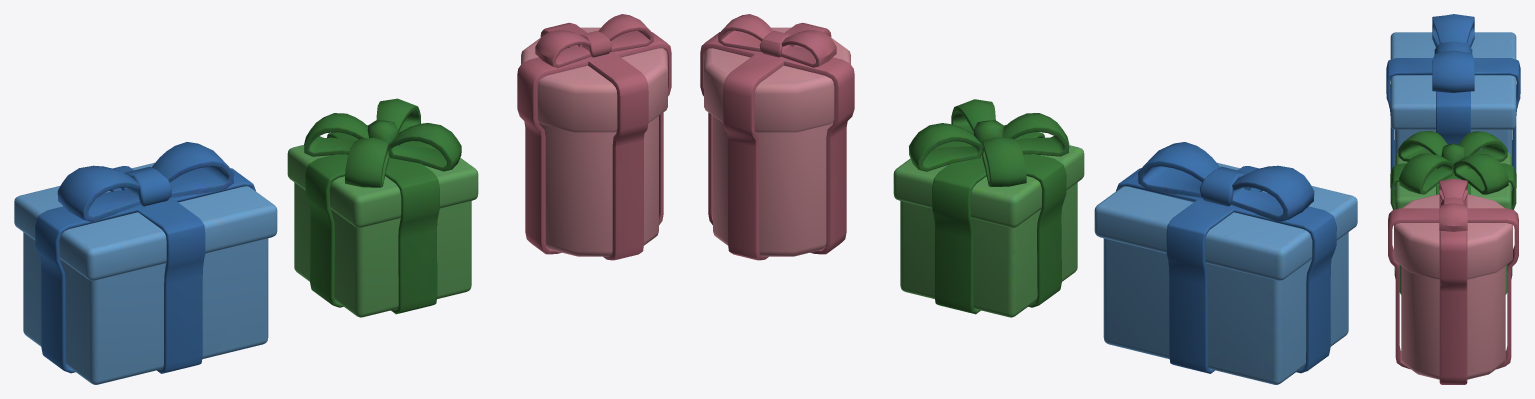
3 renders of one model, left to right at view 1: azimuth 30°, elevation 25°; view 2: azimuth 150°, elevation 25°; view 3: azimuth 270°, elevation 25°, orthographic. The views are drawn at different scales.
Parts seen in each view (by area): view 1: box_blue, box_green, box_red; view 2: box_blue, box_green, box_red; view 3: box_red, box_blue, box_green.
Part boxes in pixels (bbox=[...]): box_blue: bbox=[14, 142, 277, 384]; box_green: bbox=[287, 98, 478, 317]; box_red: bbox=[517, 14, 671, 260]; box_blue: bbox=[1094, 142, 1357, 384]; box_green: bbox=[893, 99, 1084, 317]; box_red: bbox=[700, 14, 854, 260]; box_red: bbox=[1388, 178, 1518, 384]; box_blue: bbox=[1386, 14, 1520, 190]; box_green: bbox=[1390, 131, 1516, 294].
Bounding box in the file's own units: 1.42 × 0.4628 × 0.3294.
Materials: 1 (1 with a texture image).
